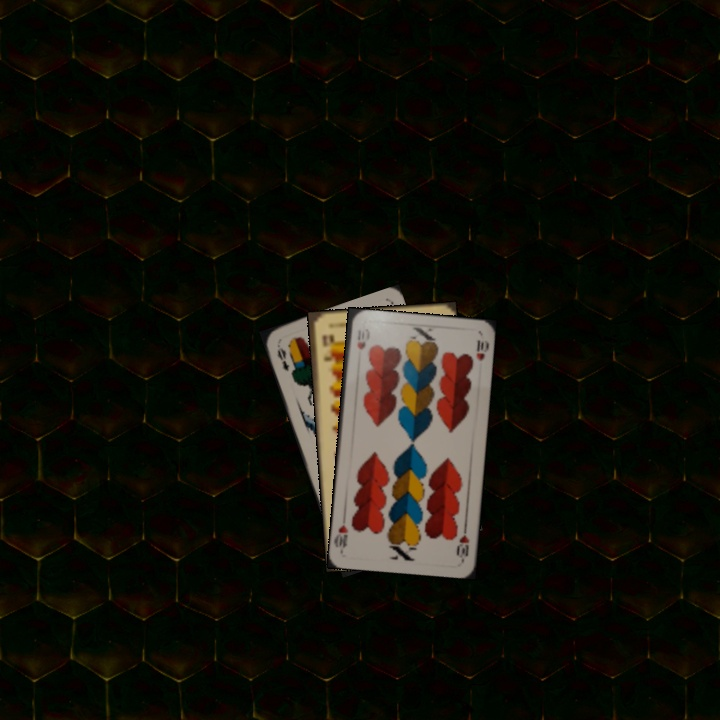E10: (318, 331, 334, 363)
EO: (273, 344, 292, 374)
H10: (453, 521, 472, 562), (353, 326, 368, 352)
